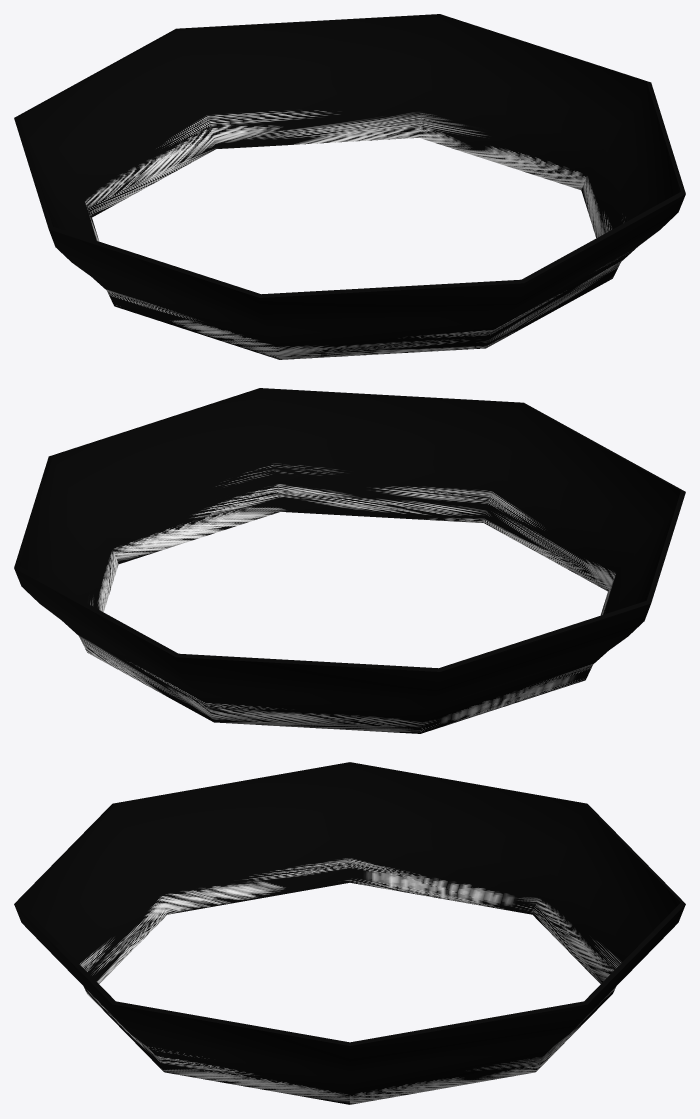
File: Particle2.FBX
3 renders of one model, top to bottom at view 1: azimuth 30°, elevation 25°; view 2: azimuth 150°, elevation 25°; view 3: azimuth 270°, elevation 25°, orthographic. The views are drawn at different scales.
Parts seen in each view (by area): view 1: Cylinder001; view 2: Cylinder001; view 3: Cylinder001.
Part boxes in pixels (x1,y1,x2,y2): Cylinder001: (14,14,685,359); Cylinder001: (14,388,685,733); Cylinder001: (14,762,685,1104).
Size of the model in its own units: 126 by 18.97 by 126.
